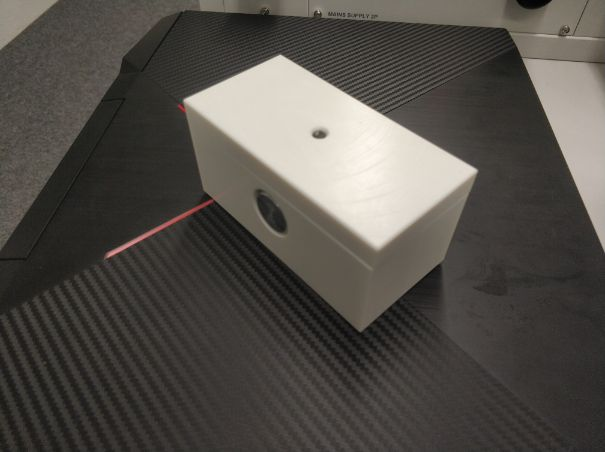white+white+silver: (175, 50, 481, 338)
